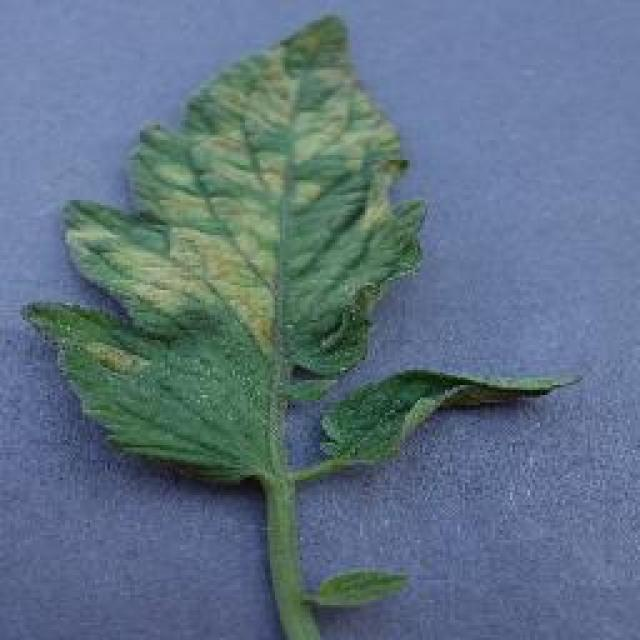Tom_Leaf_Mold: (150, 56, 385, 339)
